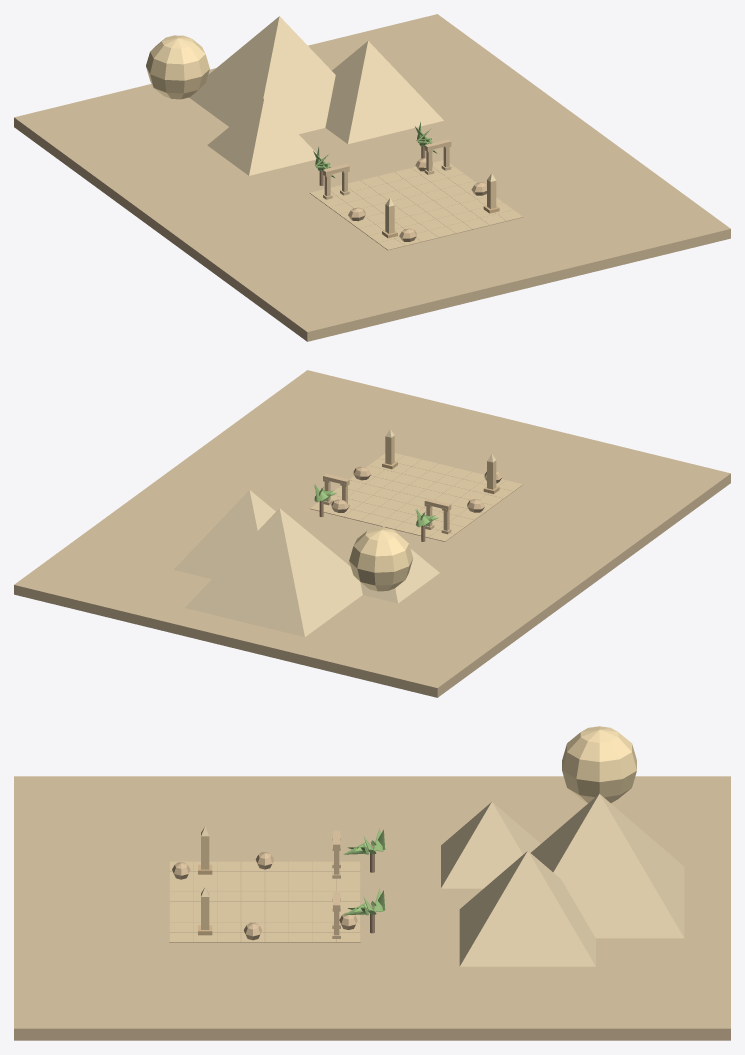
File: 03_Desert.glb
The picture shows the model from 3 angles, top to bottom: view 1: azimuth 30°, elevation 25°; view 2: azimuth 150°, elevation 25°; view 3: azimuth 270°, elevation 25°; orthographic projection. The views are drawn at different scales.
Parts seen in each view (by area): view 1: desert_ground, pyramid (×3), Sun, Arena_Base; view 2: desert_ground, pyramid (×3), Sun, Arena_Base; view 3: desert_ground, pyramid (×3), Sun, Arena_Base.
Boxes of the visible parts, <box> form: desert_ground: <box>14,14,730,341</box>; pyramid (×3): <box>189,16,443,175</box>; Sun: <box>146,35,209,99</box>; Arena_Base: <box>310,167,523,250</box>; desert_ground: <box>14,370,730,697</box>; pyramid (×3): <box>174,490,439,636</box>; Sun: <box>349,527,413,591</box>; Arena_Base: <box>309,455,523,541</box>; desert_ground: <box>14,776,730,1040</box>; pyramid (×3): <box>441,794,684,966</box>; Sun: <box>562,726,636,803</box>; Arena_Base: <box>169,862,360,942</box>.
Bounding box in the file's own units: 50 × 11.45 × 60.
